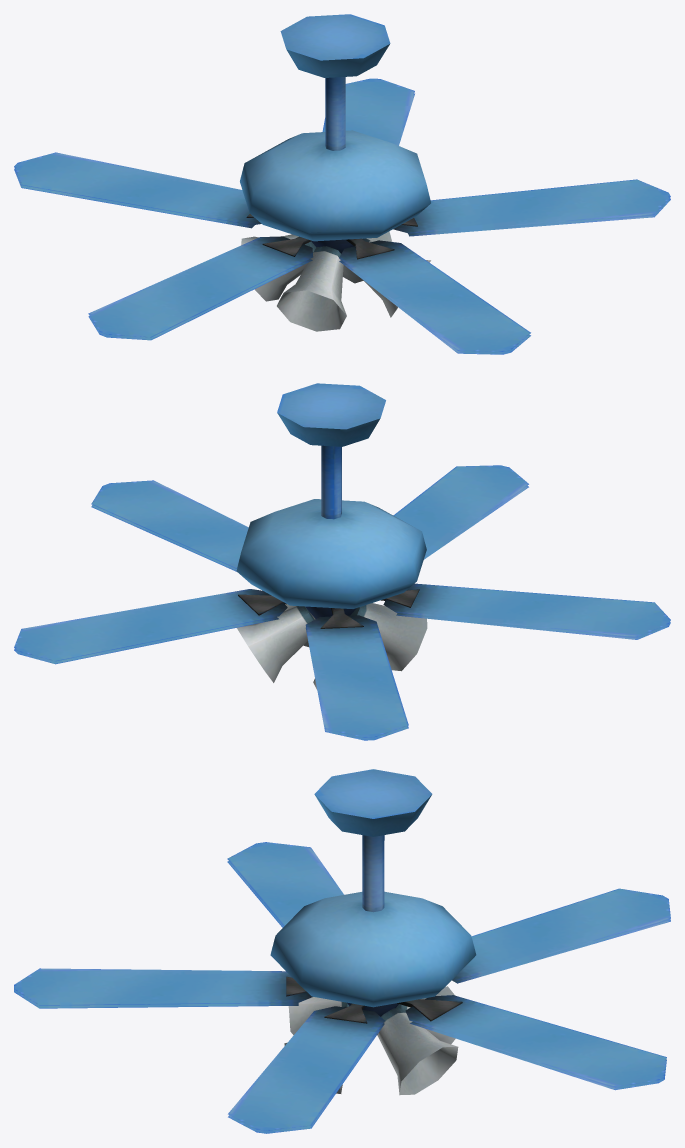
Rendered from furni_0200145_03.FBX.
3 views of the same model, one above another, from view 1: azimuth 30°, elevation 25°; view 2: azimuth 150°, elevation 25°; view 3: azimuth 270°, elevation 25° (orthographic). The views are drawn at different scales.
Parts seen in each view (by area): view 1: furni_0200145_03; view 2: furni_0200145_03; view 3: furni_0200145_03.
Part boxes in pixels (x1,y1,x2,y2): furni_0200145_03: (14,14,670,354); furni_0200145_03: (14,383,670,740); furni_0200145_03: (14,769,670,1133).
Bounding box in the file's own units: 147 × 66.51 × 141.
Materials: 1 (1 with a texture image).
